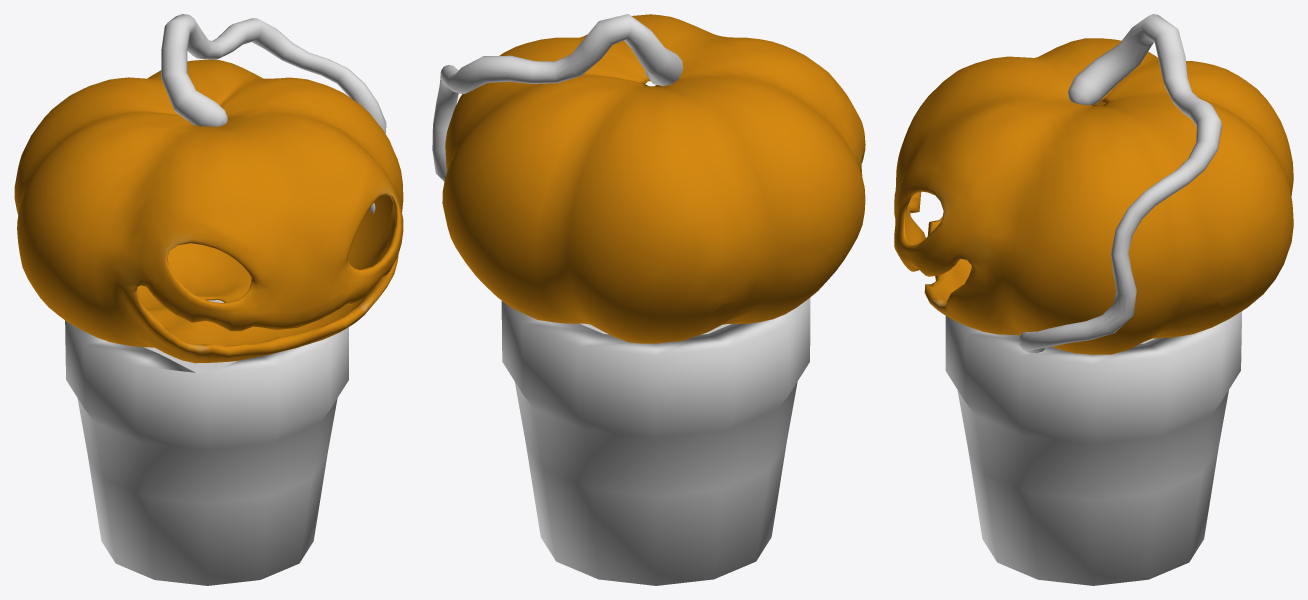
The model's file is Pumpkin_low (1).fbx.
The picture shows the model from 3 angles, left to right: view 1: azimuth 30°, elevation 25°; view 2: azimuth 150°, elevation 25°; view 3: azimuth 270°, elevation 25°; orthographic projection. The views are drawn at different scales.
Parts seen in each view (by area): view 1: Pumpkin_low, Flowerpot_low, Stem_low, Dirt_low; view 2: Pumpkin_low, Flowerpot_low, Stem_low; view 3: Pumpkin_low, Flowerpot_low, Stem_low.
Part boxes in pixels (bbox=[...]): Pumpkin_low: bbox=[14, 59, 403, 363]; Flowerpot_low: bbox=[65, 320, 348, 585]; Stem_low: bbox=[161, 14, 386, 213]; Dirt_low: bbox=[144, 300, 236, 373]; Pumpkin_low: bbox=[442, 14, 865, 343]; Flowerpot_low: bbox=[501, 298, 810, 585]; Stem_low: bbox=[432, 14, 683, 181]; Pumpkin_low: bbox=[894, 38, 1293, 354]; Flowerpot_low: bbox=[945, 311, 1242, 585]; Stem_low: bbox=[1019, 14, 1222, 353].
Size of the model in its own units: 35.42 by 46.83 by 32.07.
